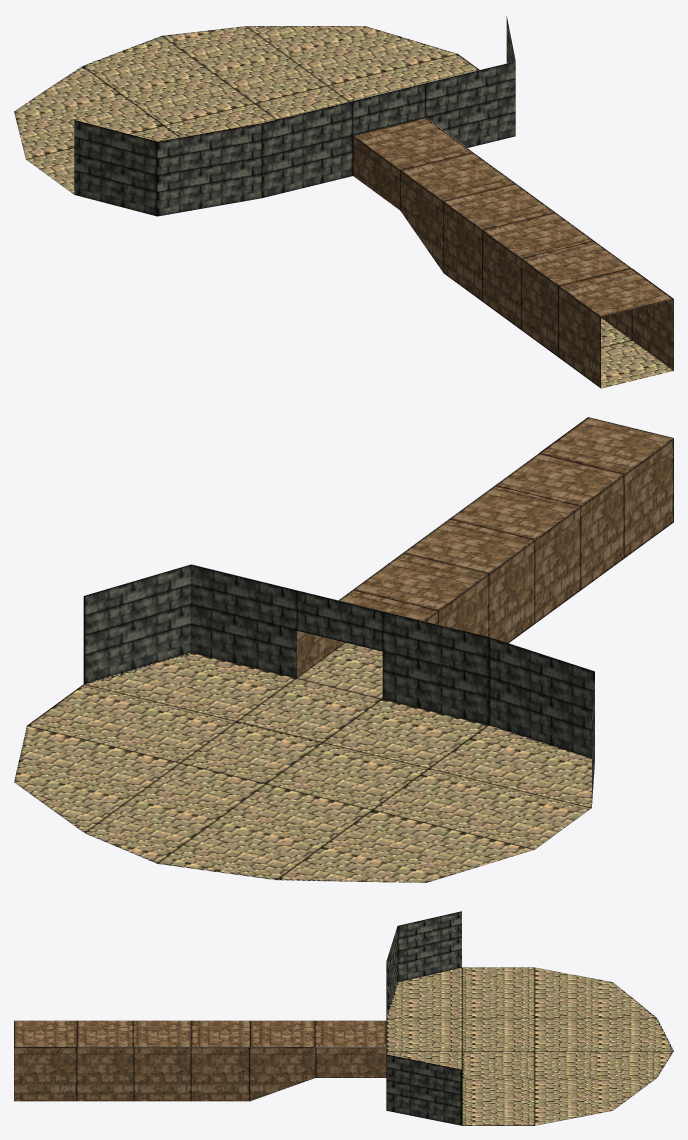
Rendered from test_maze_mapped2.obj.
3 renders of one model, top to bottom at view 1: azimuth 30°, elevation 25°; view 2: azimuth 150°, elevation 25°; view 3: azimuth 270°, elevation 25°, orthographic. The views are drawn at different scales.
Visible parts, largest first — view 1: mesh01; view 2: mesh01; view 3: mesh01.
Part boxes in pixels (box(x1,y1,x2,y2)): mesh01: box(14, 16, 673, 388); mesh01: box(14, 417, 673, 882); mesh01: box(14, 911, 673, 1125).
Size of the model in its own units: 1171 by 275 by 2061.
1 material, 1 textured.
